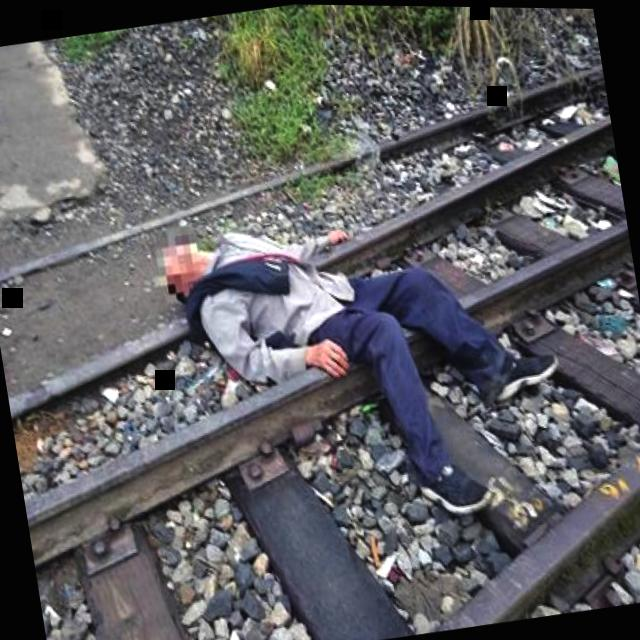Fall-Detected: (134, 147, 570, 547)
